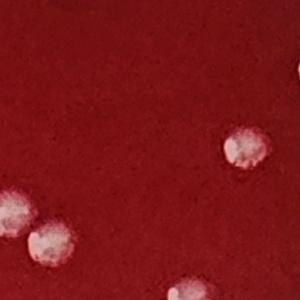colony: (23, 217, 81, 273), (218, 122, 278, 176), (0, 178, 41, 239), (162, 271, 226, 300)
